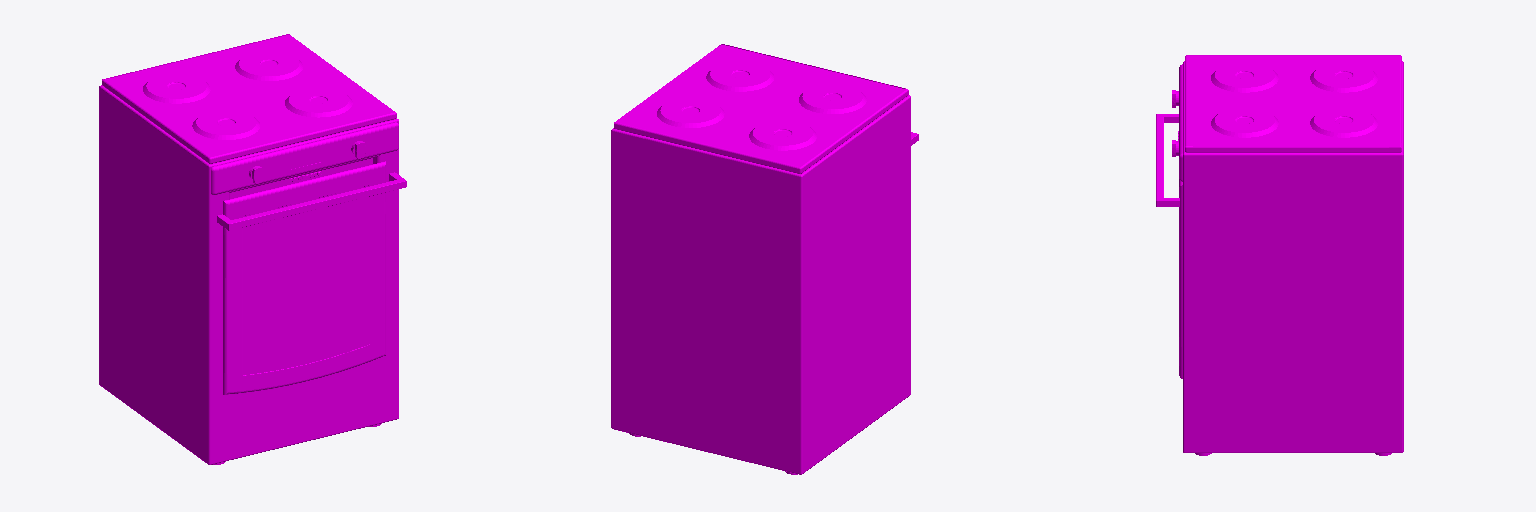
Rendered from estufaEJEM2.obj.
3 views of the same model, side by side, from view 1: azimuth 30°, elevation 25°; view 2: azimuth 150°, elevation 25°; view 3: azimuth 270°, elevation 25° (orthographic).
Visible parts, largest first — view 1: estufa; view 2: estufa; view 3: estufa.
Part boxes in pixels (bbox=[...]): estufa: bbox=[99, 34, 406, 464]; estufa: bbox=[611, 44, 918, 474]; estufa: bbox=[1156, 55, 1403, 455].
Bounding box in the file's own units: 62.19 × 98.26 × 69.71.